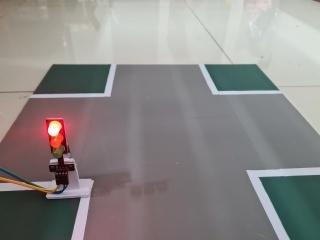red: (37, 115, 81, 175)
